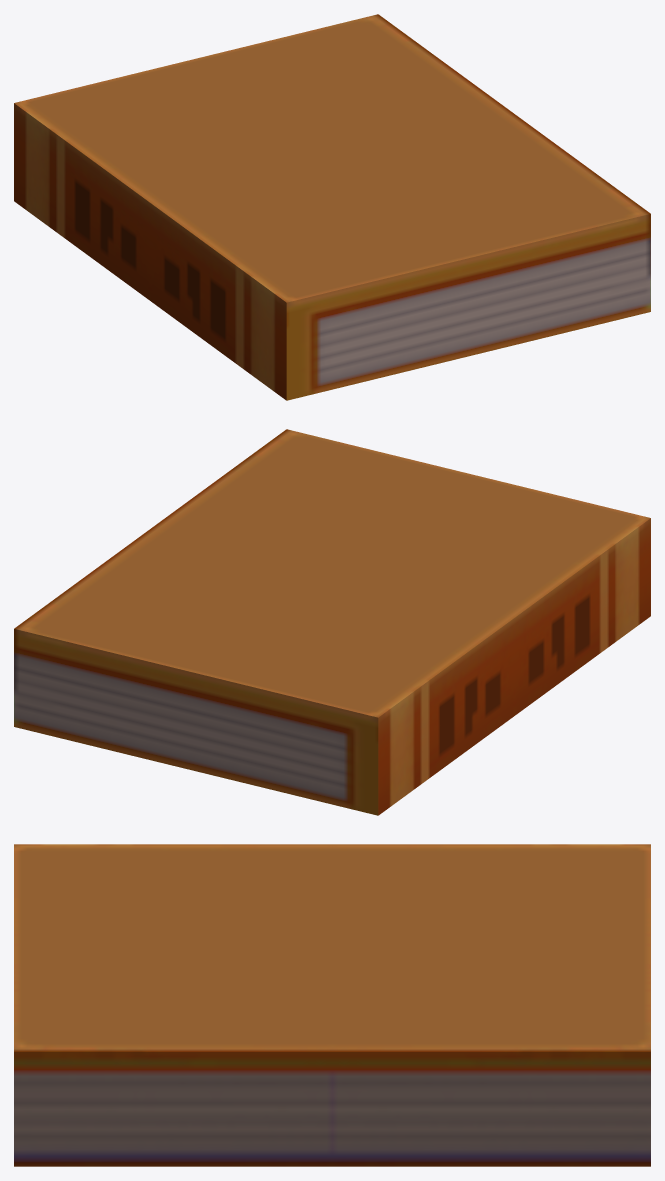
The model's file is scenes_around_book01c.FBX.
3 views of the same model, one above another, from view 1: azimuth 30°, elevation 25°; view 2: azimuth 150°, elevation 25°; view 3: azimuth 270°, elevation 25° (orthographic). The views are drawn at different scales.
Visible parts, largest first — view 1: scenes_around_book01c; view 2: scenes_around_book01c; view 3: scenes_around_book01c.
Part boxes in pixels (x1,y1,x2,y2): scenes_around_book01c: (14, 14, 650, 400); scenes_around_book01c: (14, 429, 650, 815); scenes_around_book01c: (14, 844, 650, 1166).
Size of the model in its own units: 4156 by 1070 by 5387.
